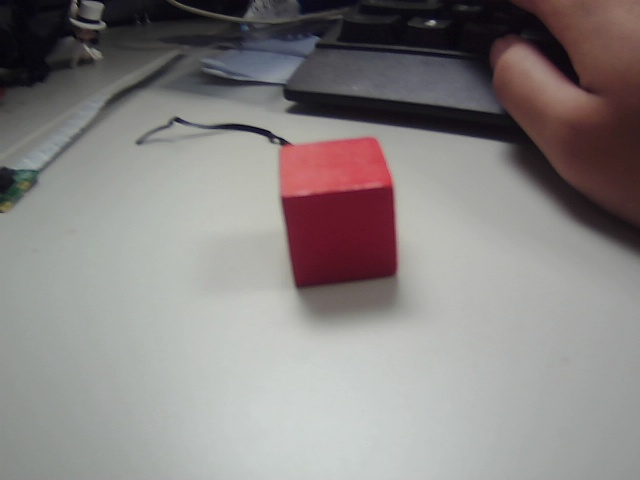redbox: (276, 134, 414, 293)
